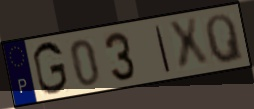0: (68, 37, 103, 88)
3: (103, 30, 137, 83)
G: (31, 40, 70, 97)
I: (153, 24, 173, 74)
Q: (204, 12, 246, 65)
X: (165, 16, 212, 74)
